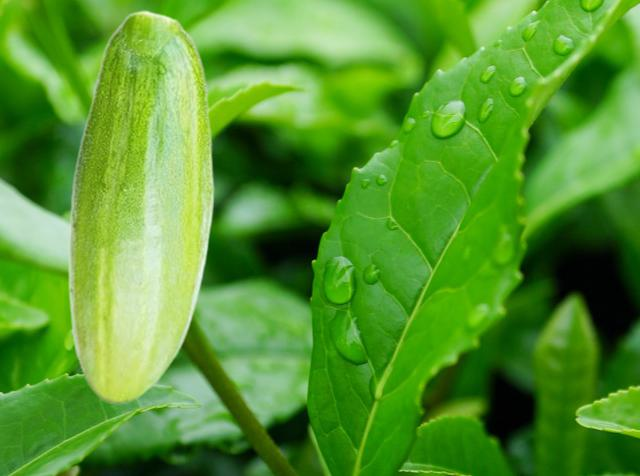cucumber: (67, 10, 213, 403)
